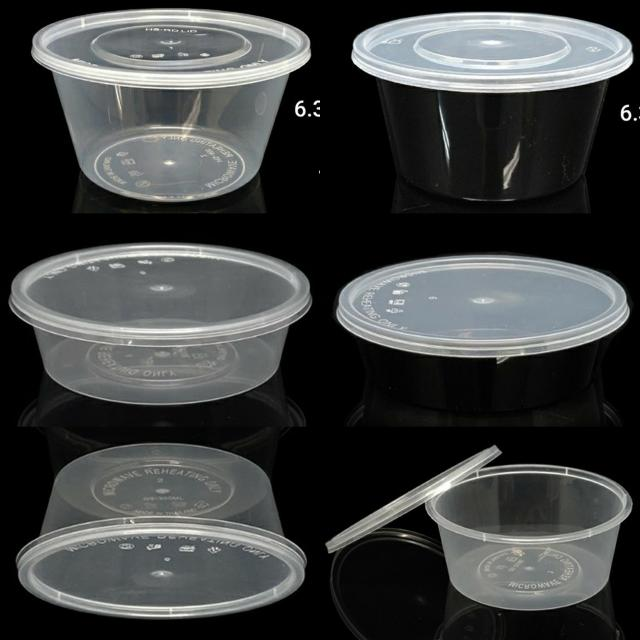Single-Use-Plastic: (31, 9, 310, 202), (352, 12, 633, 201), (18, 444, 305, 618), (10, 244, 311, 405), (337, 255, 629, 412), (425, 465, 632, 610), (325, 445, 502, 553)
